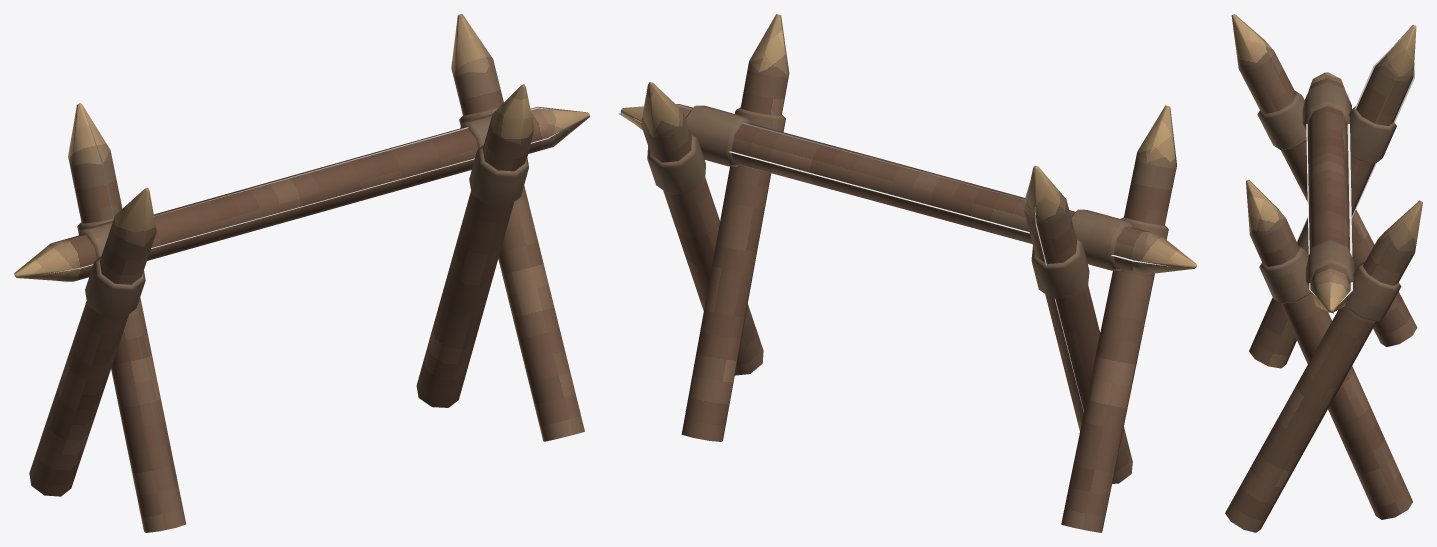
The model's file is objects_un_base_barricade01.gltf.
3 views of the same model, side by side, from view 1: azimuth 30°, elevation 25°; view 2: azimuth 150°, elevation 25°; view 3: azimuth 270°, elevation 25° (orthographic). The views are drawn at different scales.
Parts seen in each view (by area): view 1: um_objects_un_base_barricade01_model_lod0Shape:objects_un_ba (×2); view 2: um_objects_un_base_barricade01_model_lod0Shape:objects_un_ba (×2); view 3: um_objects_un_base_barricade01_model_lod0Shape:objects_un_ba (×2).
Part boxes in pixels (bbox=[...]): um_objects_un_base_barricade01_model_lod0Shape:objects_un_ba (×2): bbox=[14, 14, 589, 532]; um_objects_un_base_barricade01_model_lod0Shape:objects_un_ba (×2): bbox=[618, 14, 1196, 532]; um_objects_un_base_barricade01_model_lod0Shape:objects_un_ba (×2): bbox=[1225, 14, 1422, 532].
Size of what is drawn, in the model's own units: 2.01 by 1.24 by 0.6587.
Materials: 2 (1 with a texture image).
